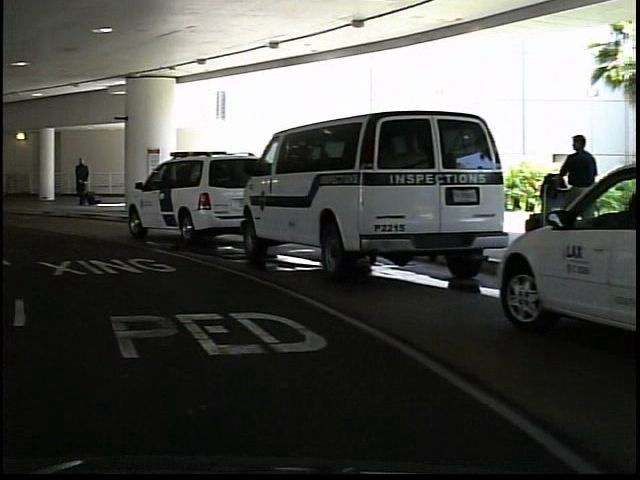person: (554, 131, 598, 264), (67, 154, 92, 214)
